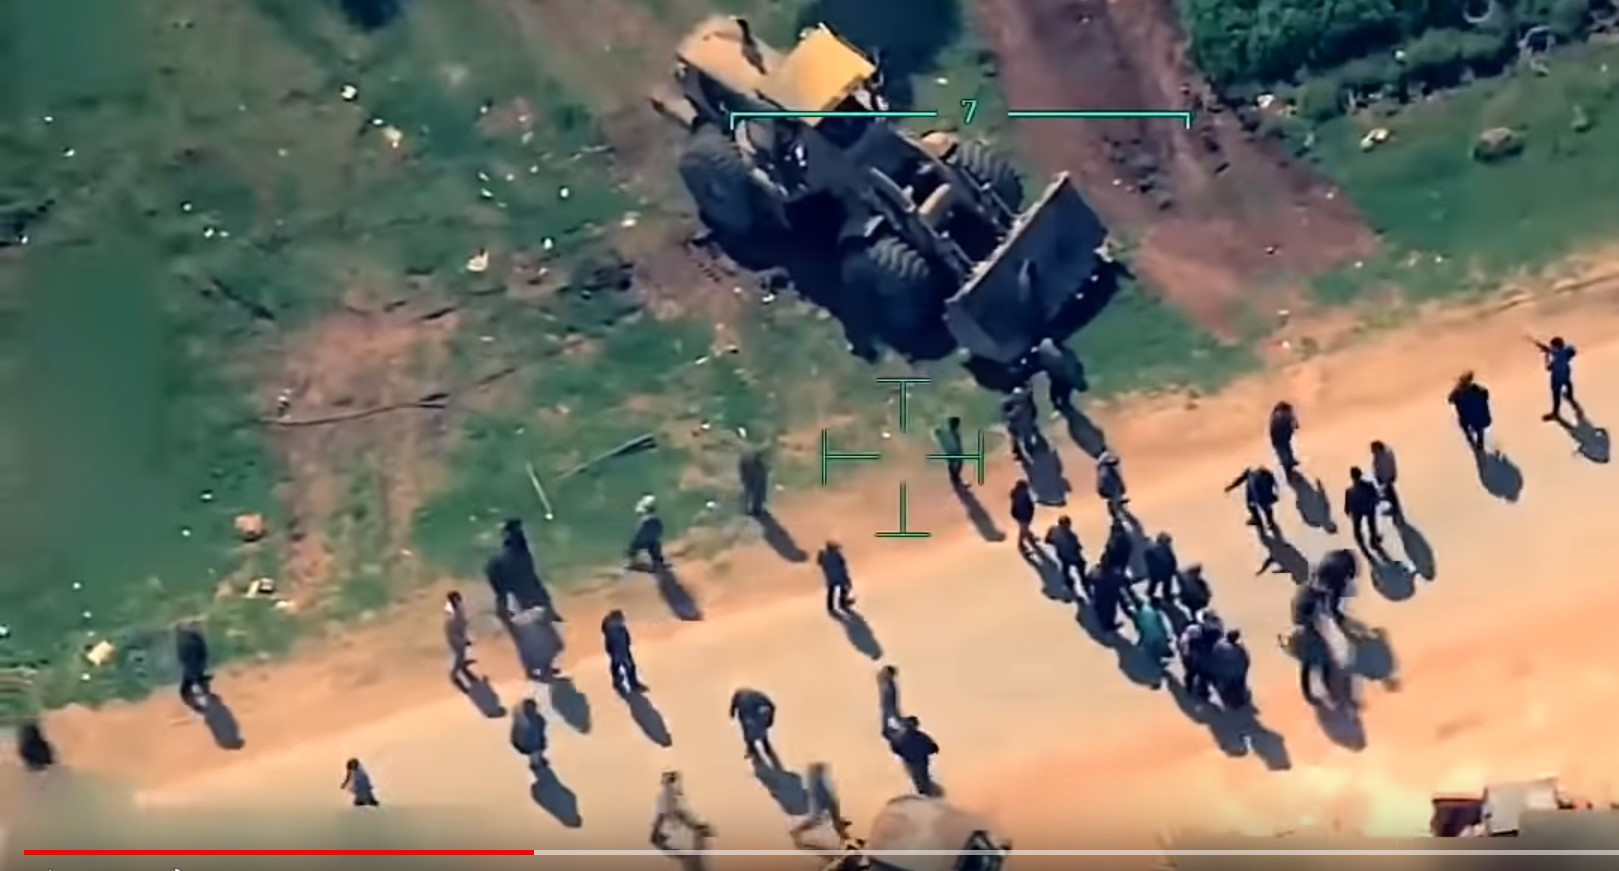araba: (644, 8, 1114, 381)
insan: (794, 747, 861, 843), (1284, 607, 1350, 703), (613, 486, 684, 571), (646, 766, 711, 858), (444, 580, 495, 684), (507, 689, 562, 783), (1535, 325, 1584, 431), (1035, 333, 1097, 413), (1450, 362, 1498, 462), (989, 383, 1042, 472), (1135, 514, 1185, 601), (174, 621, 222, 709), (817, 526, 859, 624), (608, 616, 656, 699), (1221, 631, 1263, 725), (731, 682, 776, 769), (932, 407, 977, 493), (1044, 507, 1086, 593), (739, 438, 779, 517), (1007, 477, 1045, 561), (1239, 460, 1274, 550), (910, 703, 942, 798), (1274, 393, 1303, 483), (1097, 445, 1126, 531), (341, 748, 376, 816), (1348, 464, 1375, 555), (1377, 424, 1399, 524), (875, 664, 902, 746)
